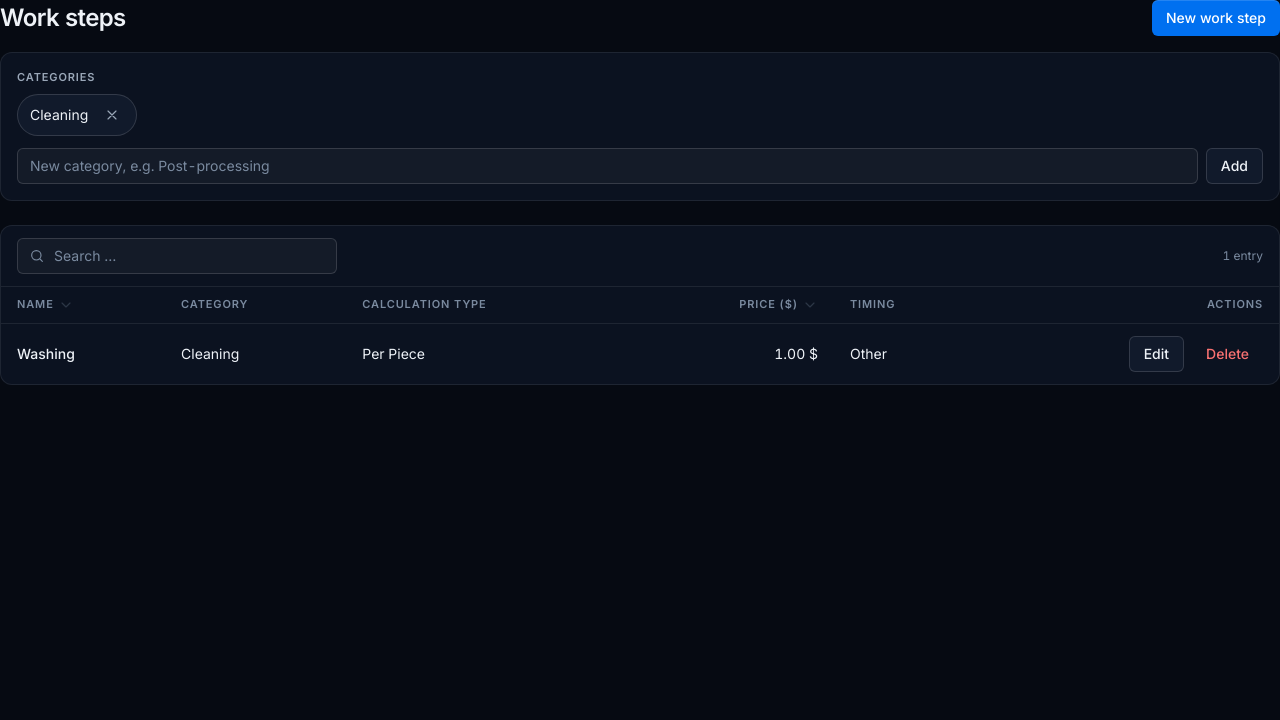
Scenario: WorkstepView › zeigt einen Hinweis beim Delete benutzter Kategorien
Click the button named "Delete category Cleaning". click: (112, 114)
box: [96,98,128,130]
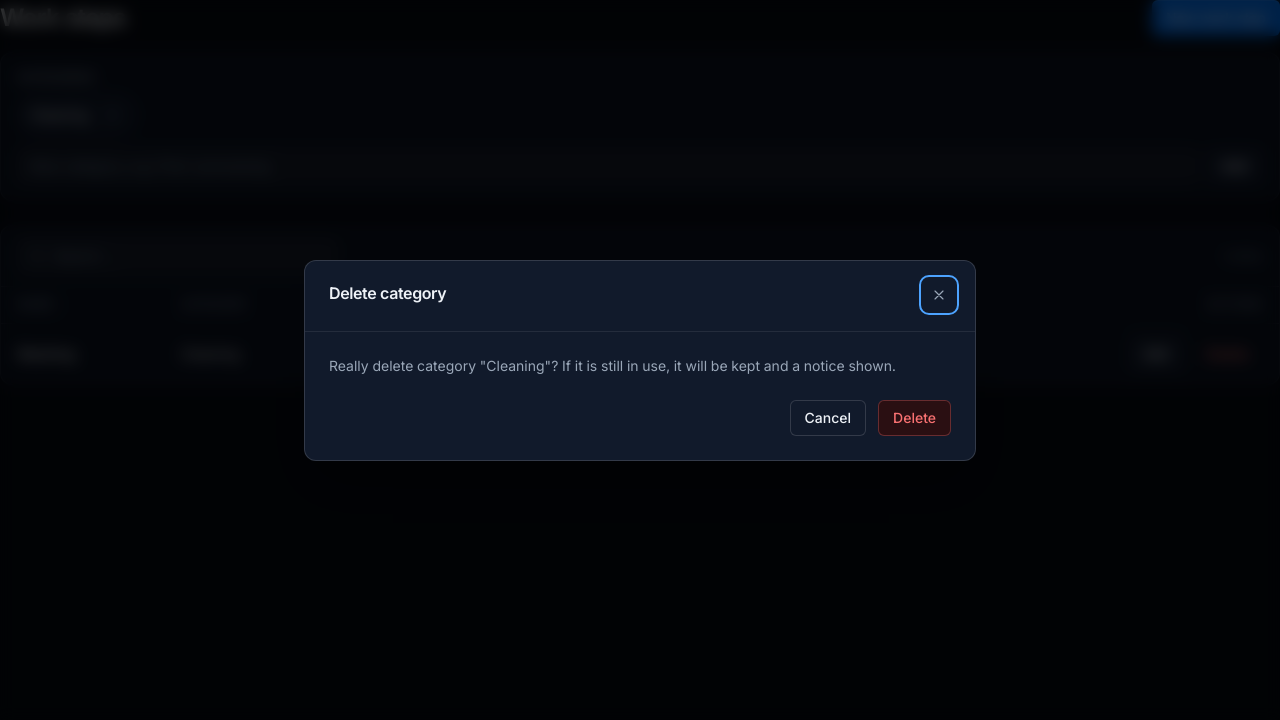
Click the button "Delete". click: (915, 418)
box: [878,400,951,436]
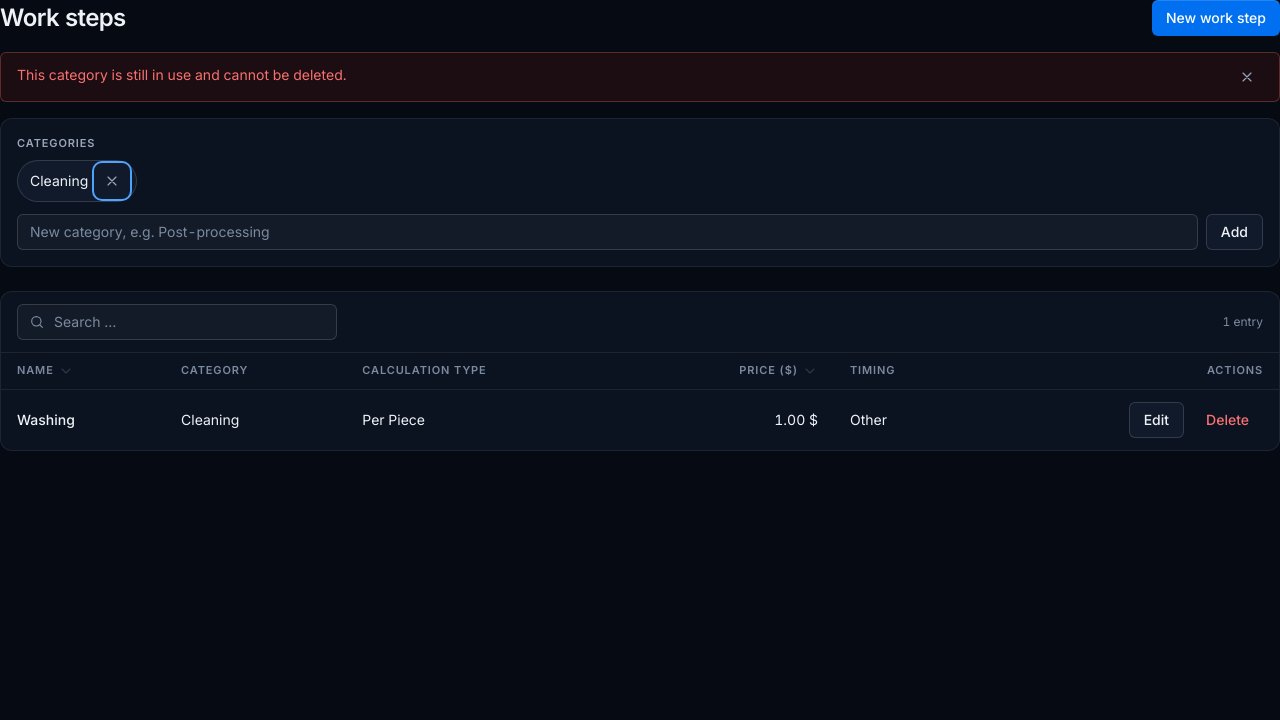
Now the message shows "still in use", box [17,66,346,83]
